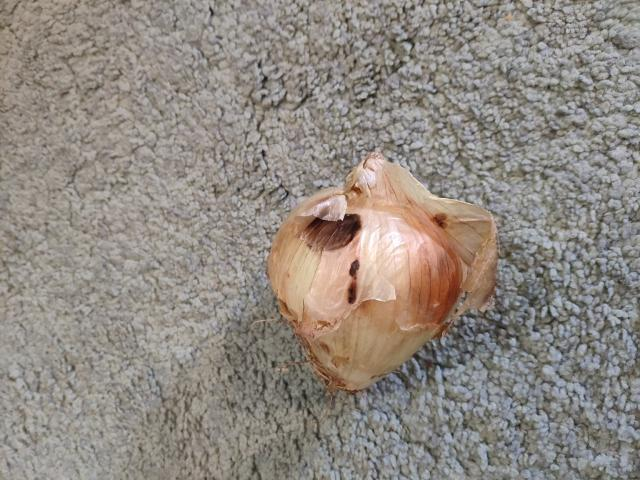onion: (261, 184, 458, 383)
